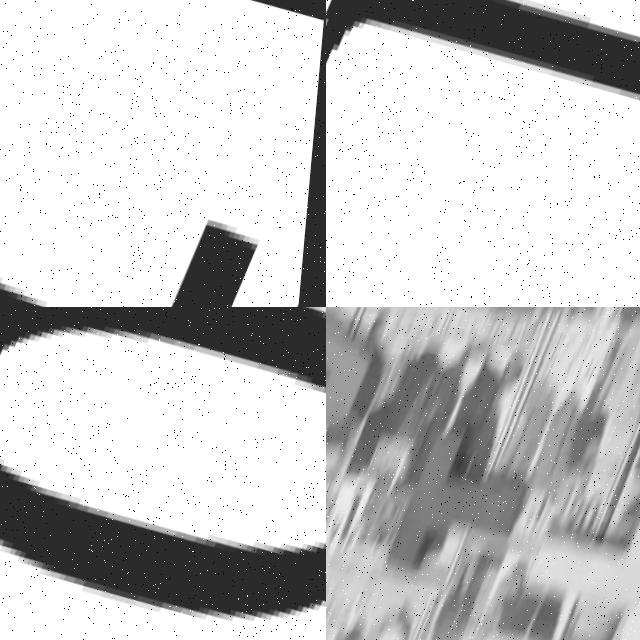0: (0, 307, 326, 640)
1: (326, 0, 640, 270)
L: (526, 439, 640, 627)
T: (0, 3, 311, 307), (381, 415, 556, 603)
V: (326, 307, 400, 464)
